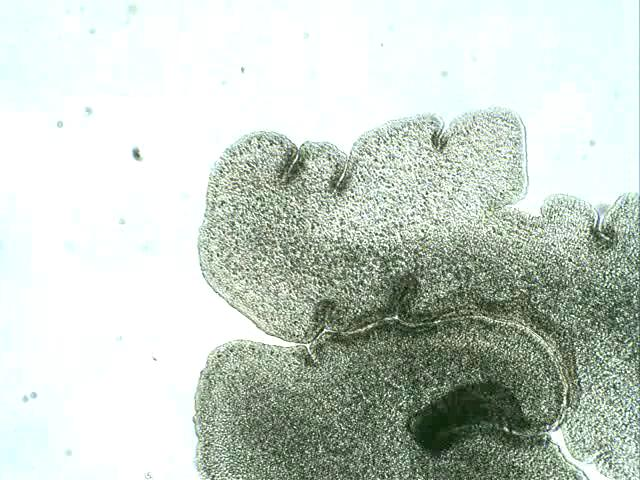Placozoan: (198, 106, 640, 480), (193, 318, 588, 480)
